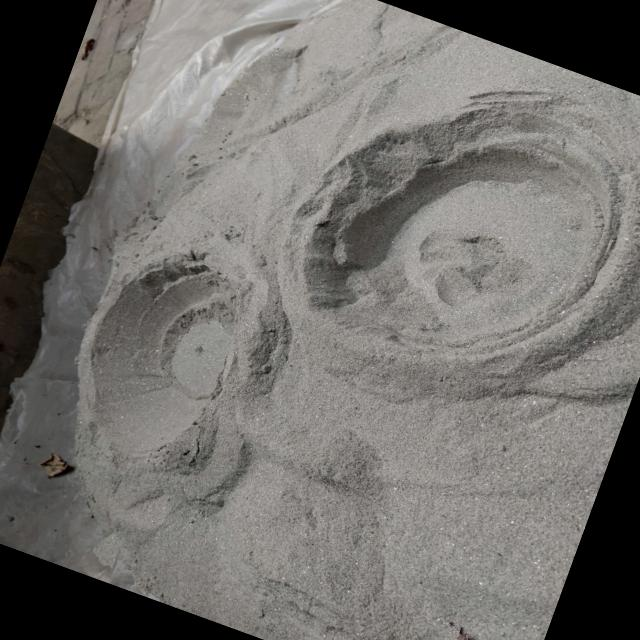C20: (321, 119, 613, 358), (82, 257, 235, 454)
